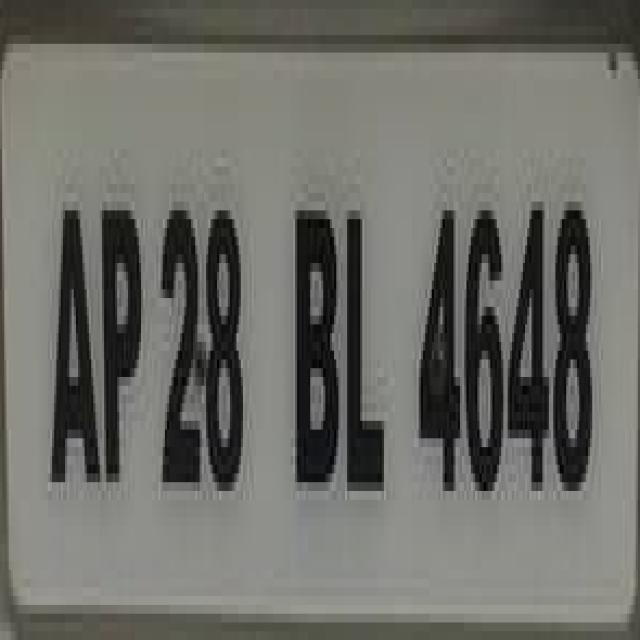license_plate: (0, 35, 605, 640)
